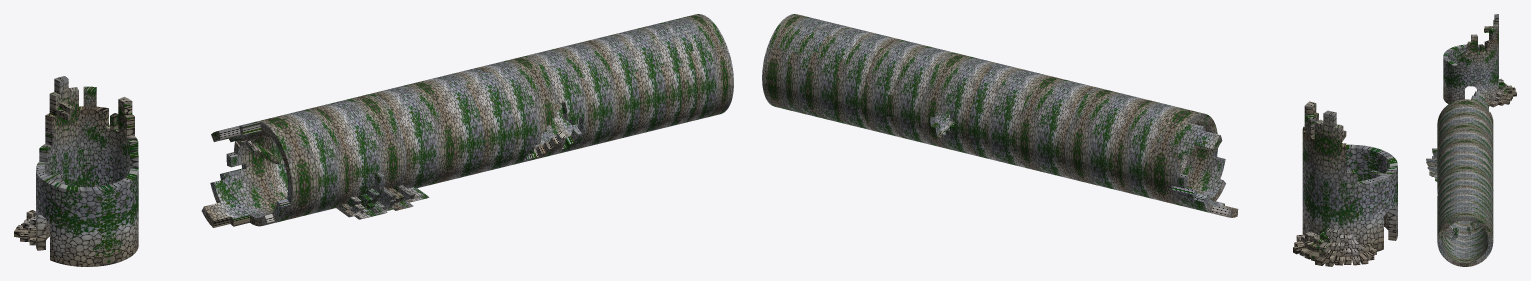
The model's file is collapesed_tower.glb.
The picture shows the model from 3 angles, left to right: view 1: azimuth 30°, elevation 25°; view 2: azimuth 150°, elevation 25°; view 3: azimuth 270°, elevation 25°; orthographic projection. The views are drawn at different scales.
Parts seen in each view (by area): view 1: polySurface2, polySurface1; view 2: polySurface2, polySurface1; view 3: polySurface2, polySurface1.
Boxes of the visible parts, bbox=[...] form: polySurface2: bbox=[201, 14, 733, 227]; polySurface1: bbox=[14, 76, 138, 266]; polySurface2: bbox=[762, 14, 1238, 217]; polySurface1: bbox=[1293, 101, 1397, 266]; polySurface2: bbox=[1426, 91, 1493, 266]; polySurface1: bbox=[1443, 14, 1516, 107].
Size of the model in its own units: 3.61 by 0.8421 by 0.7898.
1 material, 1 textured.
